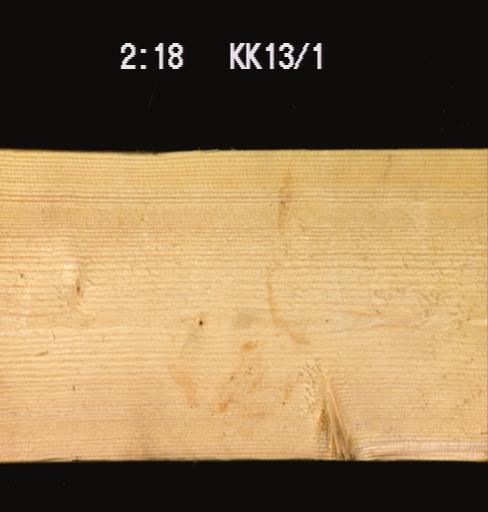small_knot: (190, 308, 211, 335), (67, 274, 88, 300)
wave: (364, 434, 487, 460)
